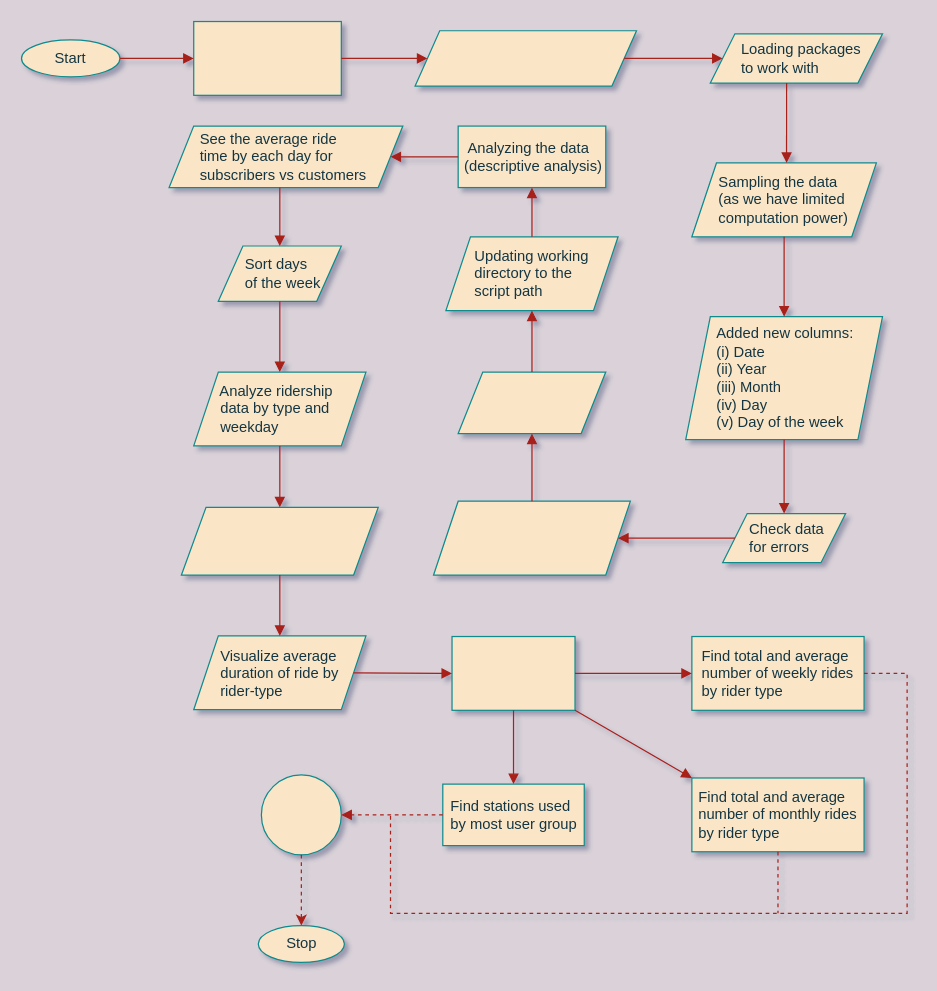
Image size: 937x991. Some labels were removed from this diagram. Each missing label, with the centre of its shape:
Clean column names and check for duplicate records in rows: pixel 531 537
Collecting a suitable updated bike-share dataset for analysis: pixel 266 57
Export summary file for further analysis: pixel 513 672
Exporting the cleaned data to a new file: pixel 531 402
Further analysis: pixel 300 814
Including it in our workflow (if all constraints comply): pixel 525 58
Visualize the number of rides by rider type: pixel 279 540
